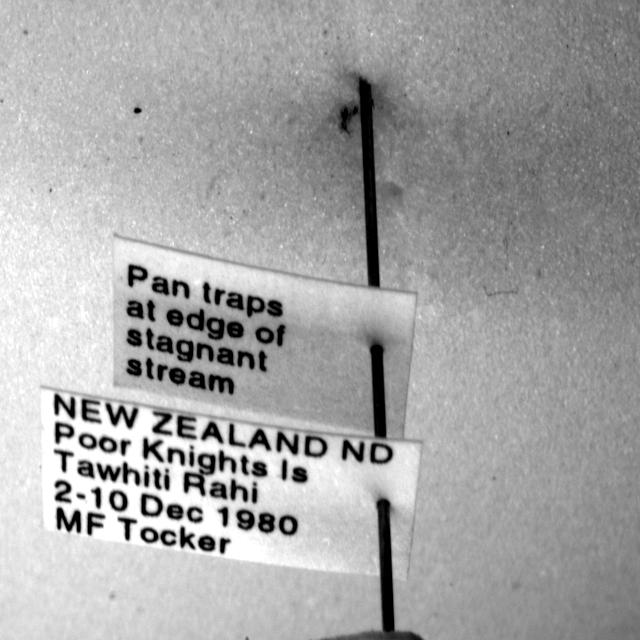typed_label: (41, 388, 421, 579), (114, 236, 416, 439)
